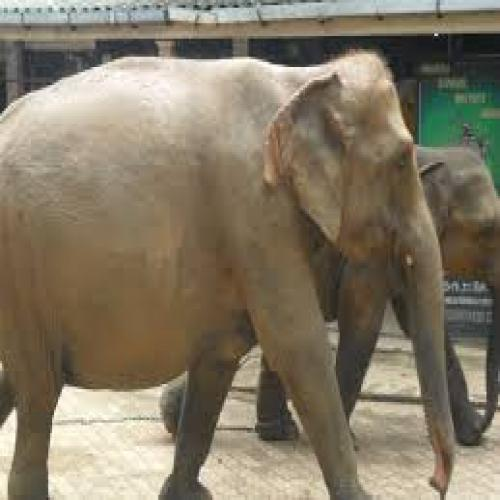asian_elephant-endangered: (0, 49, 459, 497), (149, 148, 500, 442)
